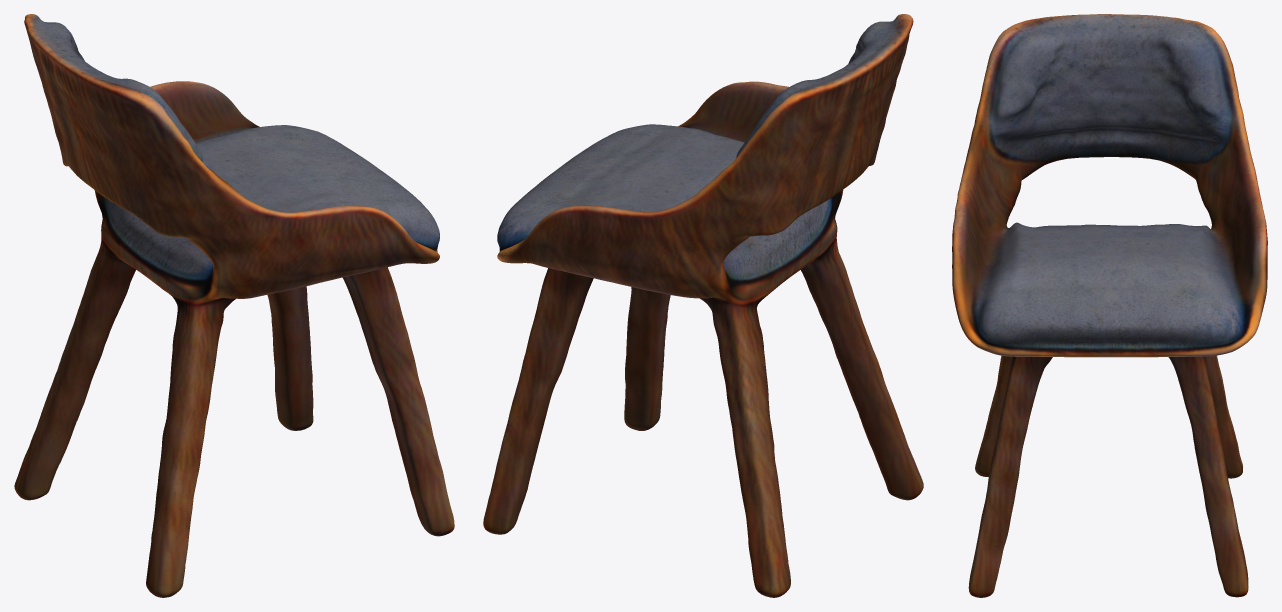
The model's file is krzeslo_luma.glb.
3 renders of one model, left to right at view 1: azimuth 30°, elevation 25°; view 2: azimuth 150°, elevation 25°; view 3: azimuth 270°, elevation 25°, orthographic. The views are drawn at different scales.
Visible parts, largest first — view 1: geometry_0; view 2: geometry_0; view 3: geometry_0.
Boxes of the visible parts, box(x1,y1,x2,y2) form: geometry_0: box(14, 14, 454, 597); geometry_0: box(483, 14, 923, 597); geometry_0: box(952, 14, 1267, 597).
Bounding box in the file's own units: 0.3118 × 0.4557 × 0.2916.
Materials: 1 (1 with a texture image).
